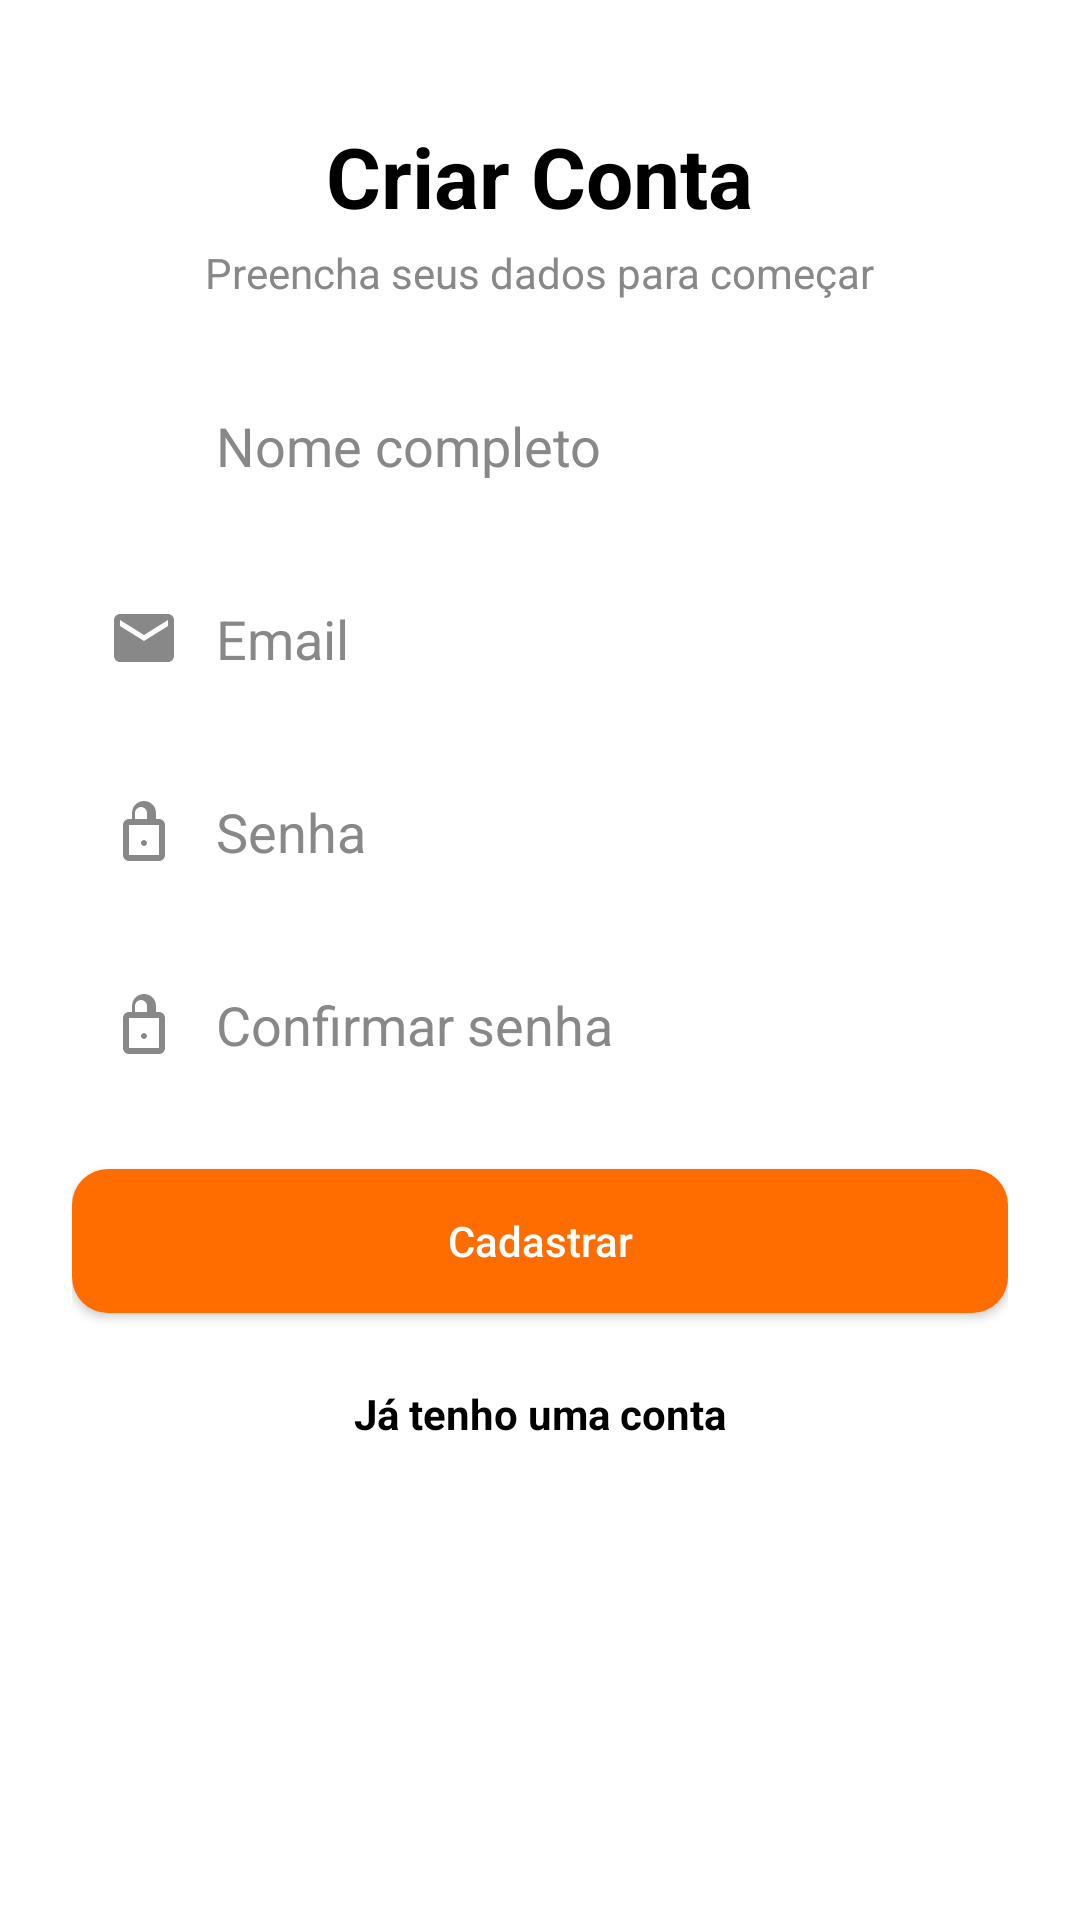

Icons on this 1080×1920 Android screen, each with the point to tap as (x,y):
lock: (144,831), (144,1024)
